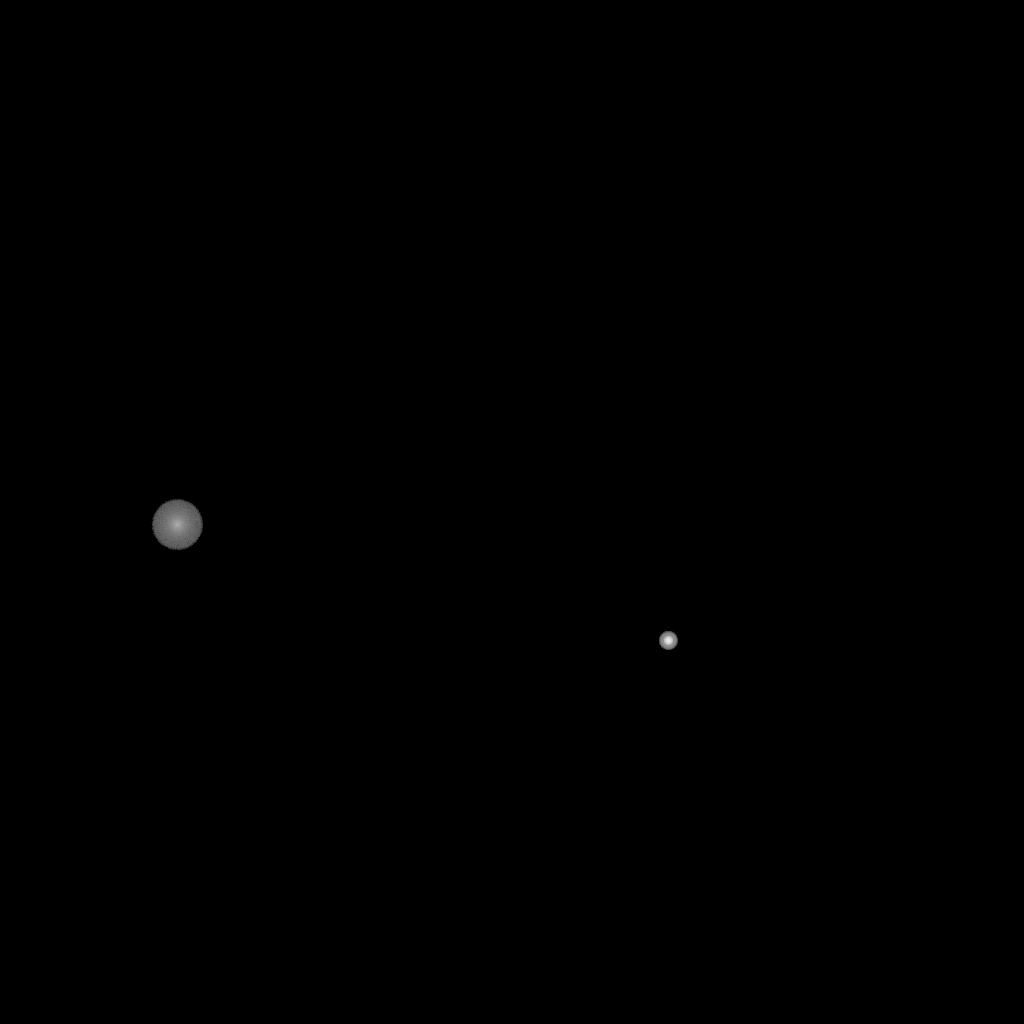depth:-20: (659, 632, 677, 650)
depth:20: (151, 500, 203, 550)
